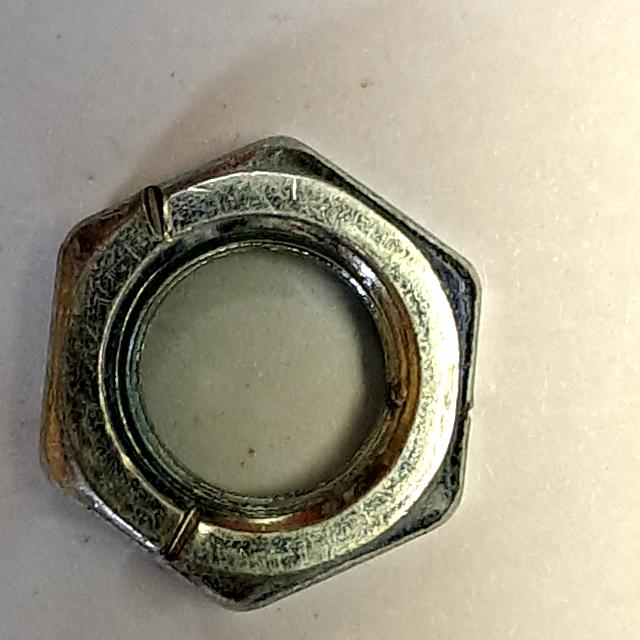Scratches: (25, 126, 499, 623)
